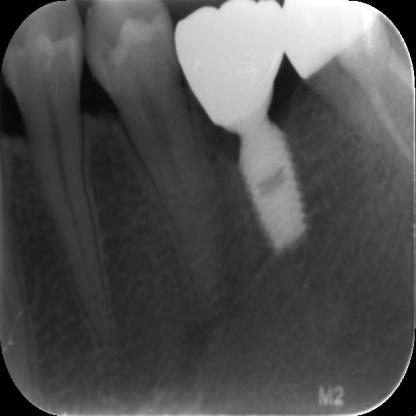Bicon: (230, 111, 312, 259)
